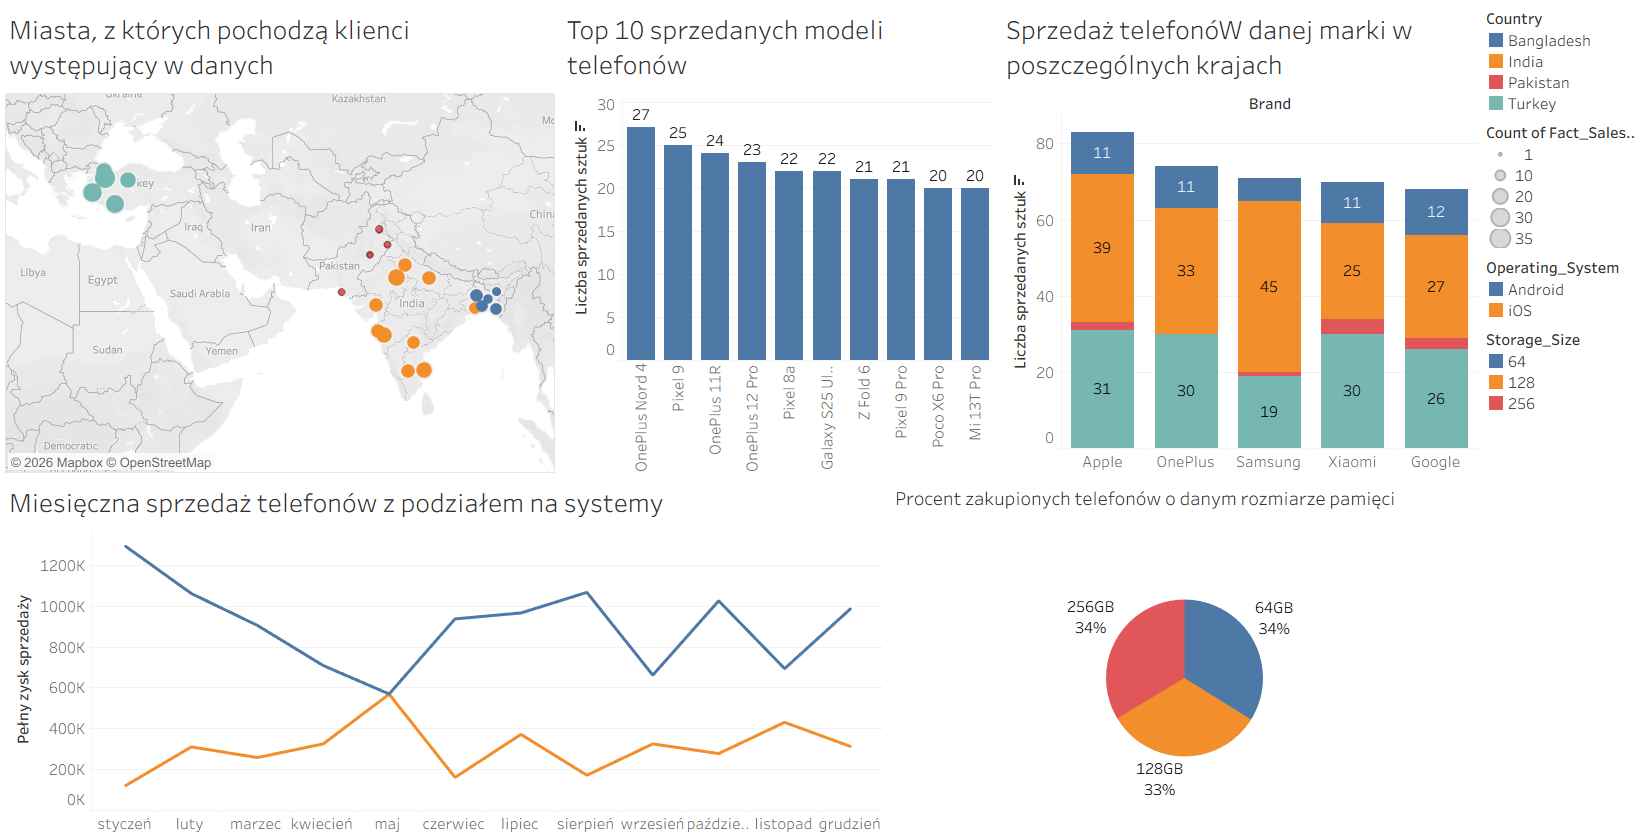

Layout of this report page (visuals, bound fields, positions):
{"tool":"tableau","page":{"name":"Dashboard 1","canvas":[1000,1000],"units":"permille","ordinal":0},"visuals":[{"type":"worksheet","title":"Mapa","mark":"Automatic","rows":["Latitude"],"cols":["Longitude"],"box":[4.9,9.4,336.4,555.8]},{"type":"worksheet","title":"Top10","mark":"Automatic","rows":["Fact_Sales.txt_8EAF0D96D1924377BB22CE5666B94C35"],"cols":["Mobile_Model"],"box":[341.2,9.4,264.6,555.8]},{"type":"worksheet","title":"Słupki","mark":"Bar","rows":["Fact_Sales.txt_8EAF0D96D1924377BB22CE5666B94C35"],"cols":["Brand"],"box":[605.8,9.4,292,555.8]},{"type":"legend","title":"Mapa","param":"[federated.0vryuq818uwm5v1gwhft70s4326h].[none:Country:nk]","box":[897.8,9.4,97.3,134]},{"type":"legend","title":"Mapa","param":"[federated.0vryuq818uwm5v1gwhft70s4326h].[__tableau_internal_object_id__].[cnt:F","box":[897.8,143.4,97.3,158.6]},{"type":"legend","title":"Linie","param":"[federated.0vryuq818uwm5v1gwhft70s4326h].[none:Operating_System:nk]","box":[897.8,302,97.3,84.6]},{"type":"legend","title":"Koło","param":"[federated.0vryuq818uwm5v1gwhft70s4326h].[none:Storage_Size:ok]","box":[897.8,386.6,97.3,109.3]},{"type":"worksheet","title":"Linie","mark":"Line","rows":["Total_Revenue"],"cols":["Transaction_Date"],"box":[4.9,565.2,534.1,425.4]},{"type":"worksheet","title":"Koło","mark":"Pie","box":[538.9,565.2,358.9,425.4]}]}

Visuals, with their boxes on the dashboard's canvas, which has no fixed pixel size, in thousandths of its width and height (x1, y1, x2, y2). These are canvas units, not pixel positions in the 1650x835 screenshot, which may show the page scaled, cropped or inside an application window:
"Mapa" worksheet: (left=5, top=9, right=341, bottom=565)
"Top10" worksheet: (left=341, top=9, right=606, bottom=565)
"Słupki" worksheet (Bar marks): (left=606, top=9, right=898, bottom=565)
"Mapa" legend: (left=898, top=9, right=995, bottom=143)
"Mapa" legend: (left=898, top=143, right=995, bottom=302)
"Linie" legend: (left=898, top=302, right=995, bottom=387)
"Koło" legend: (left=898, top=387, right=995, bottom=496)
"Linie" worksheet (Line marks): (left=5, top=565, right=539, bottom=991)
"Koło" worksheet (Pie marks): (left=539, top=565, right=898, bottom=991)
